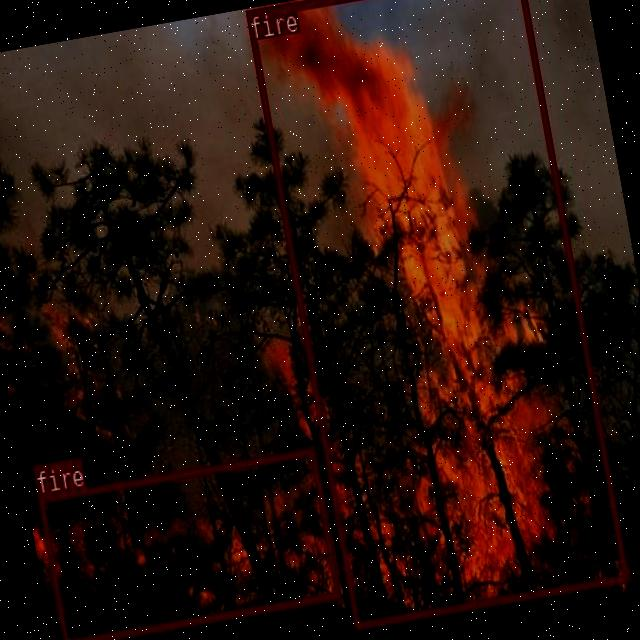fire: (244, 0, 627, 628), (36, 445, 341, 640)
